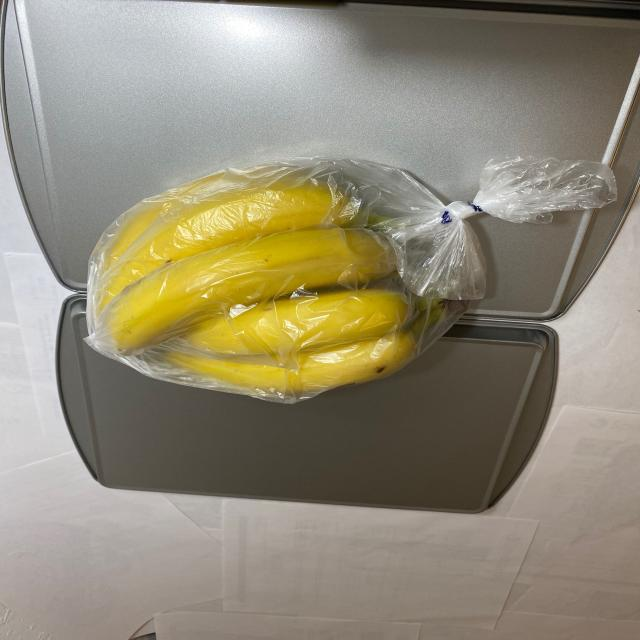banana: (80, 158, 489, 404)
